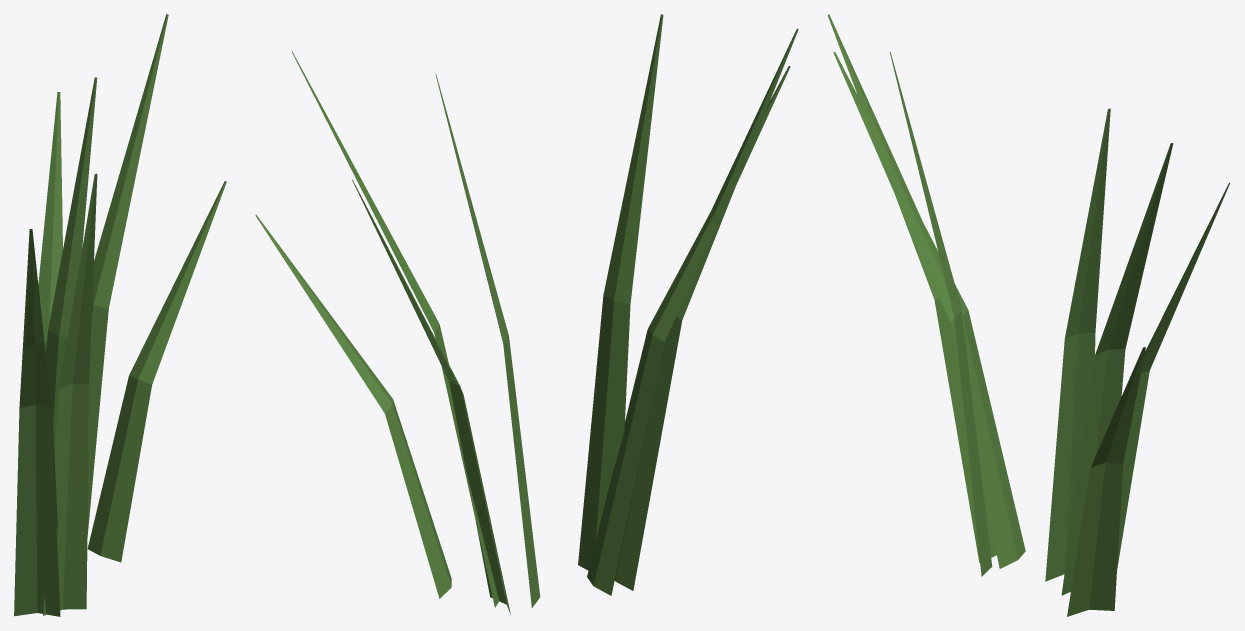
Rendered from ZB_bitki_cimen.glb.
The picture shows the model from 3 angles, left to right: view 1: azimuth 30°, elevation 25°; view 2: azimuth 150°, elevation 25°; view 3: azimuth 270°, elevation 25°; orthographic projection. The views are drawn at different scales.
Parts seen in each view (by area): view 1: ZB_bitki_cimen; view 2: ZB_bitki_cimen; view 3: ZB_bitki_cimen.
Part boxes in pixels (left/top/right/bottom): ZB_bitki_cimen: left=14, top=14, right=226, bottom=616; ZB_bitki_cimen: left=255, top=14, right=798, bottom=615; ZB_bitki_cimen: left=827, top=14, right=1229, bottom=616.
Bounding box in the file's own units: 0.2735 × 0.3717 × 0.2592.
